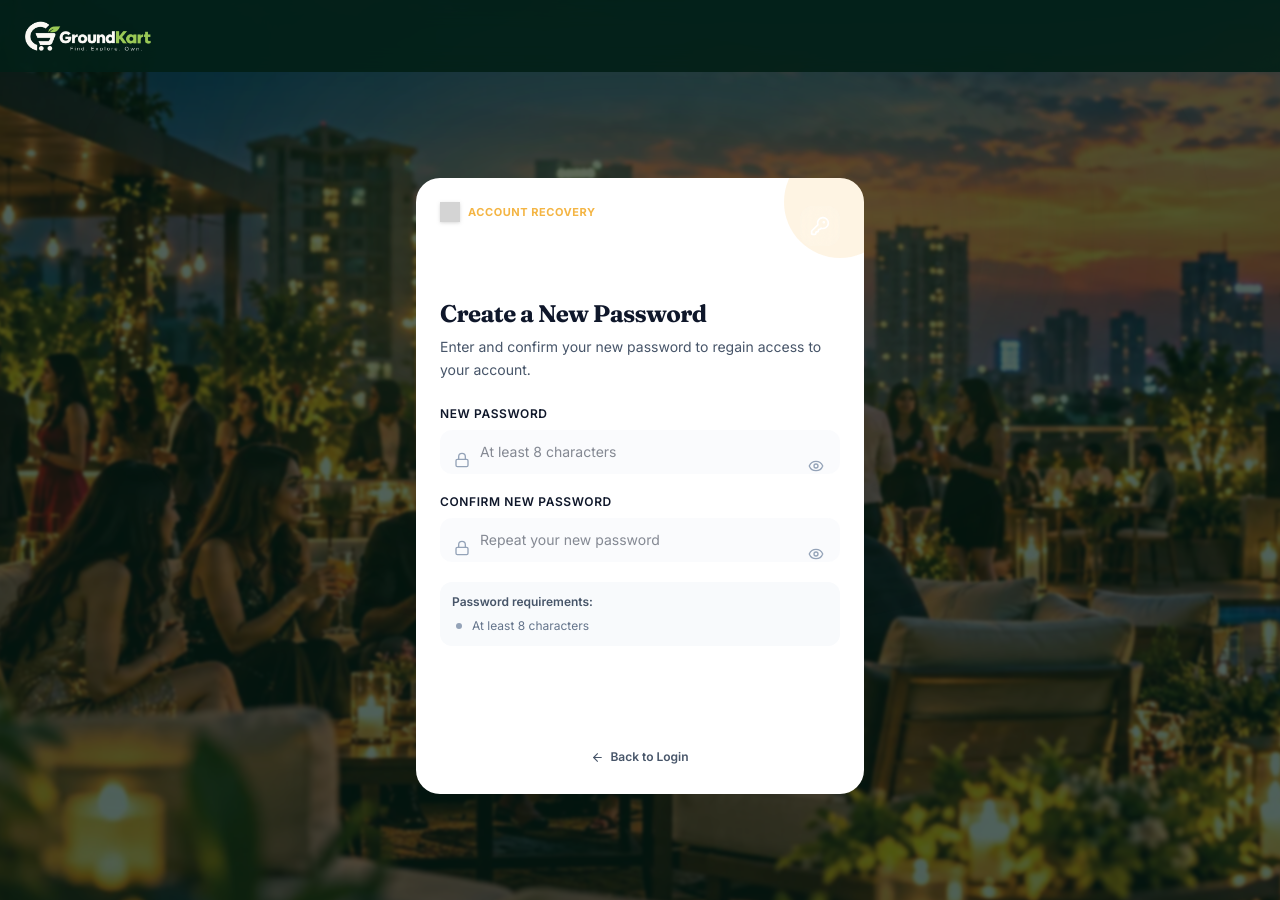
Test: ResetPassword component › validates password match and shows mismatch warning
Type "password123" into the password field labelled "New Password" at (640, 452), box [440, 430, 840, 474]
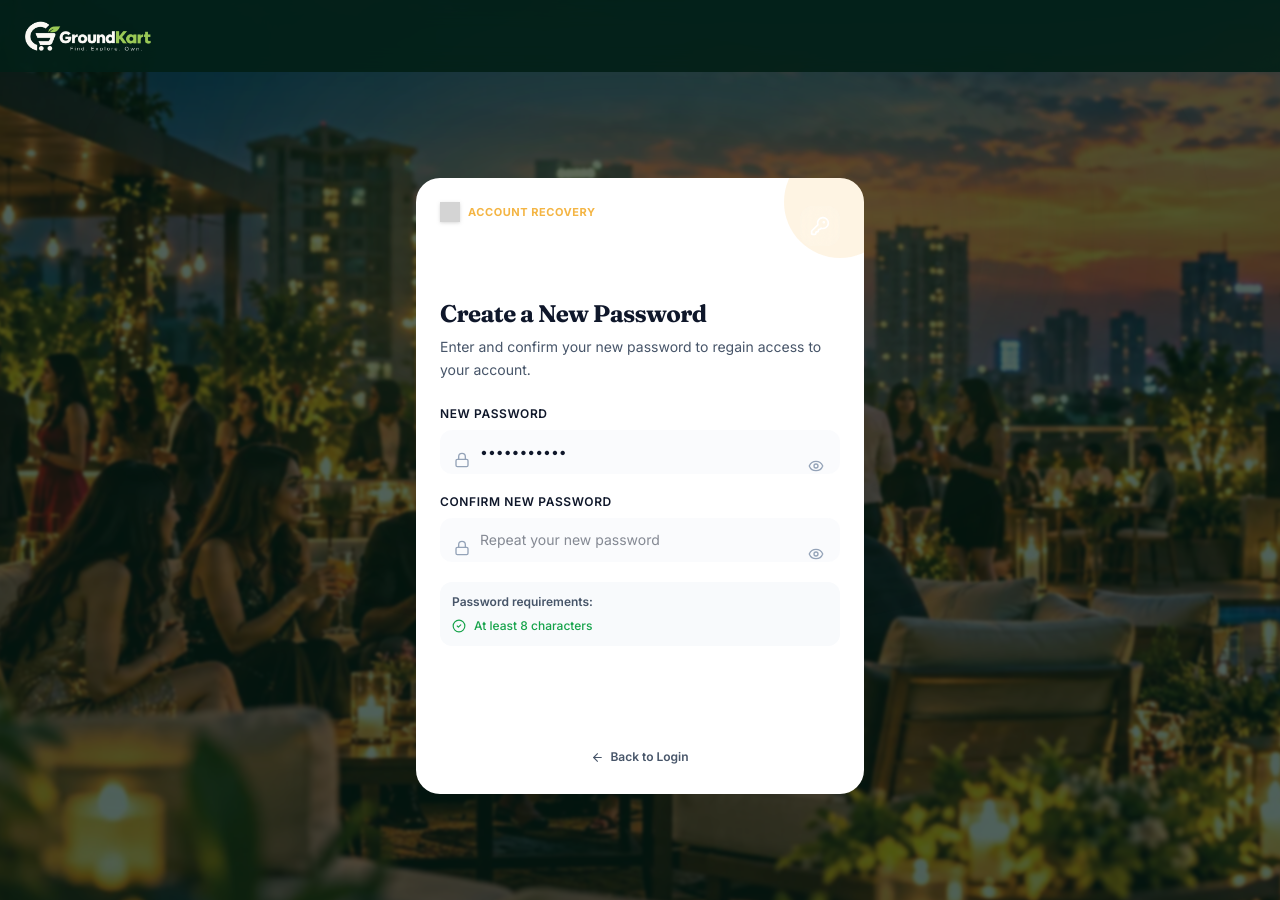
Type "different123" into the password field labelled "Confirm New Password" at (640, 540), box [440, 518, 840, 562]
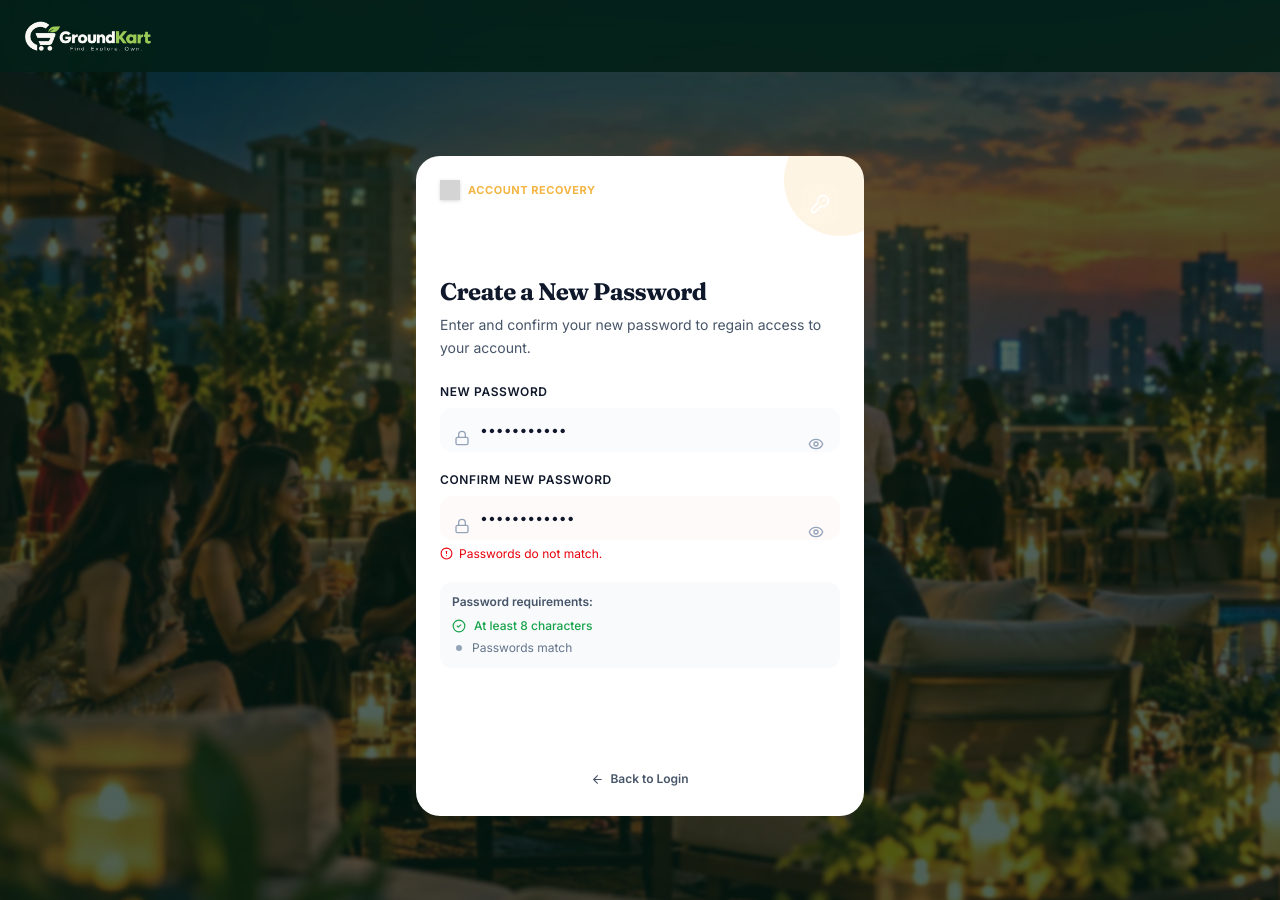
Check: the text "Passwords do not match." is shown, box [459, 546, 602, 562]
